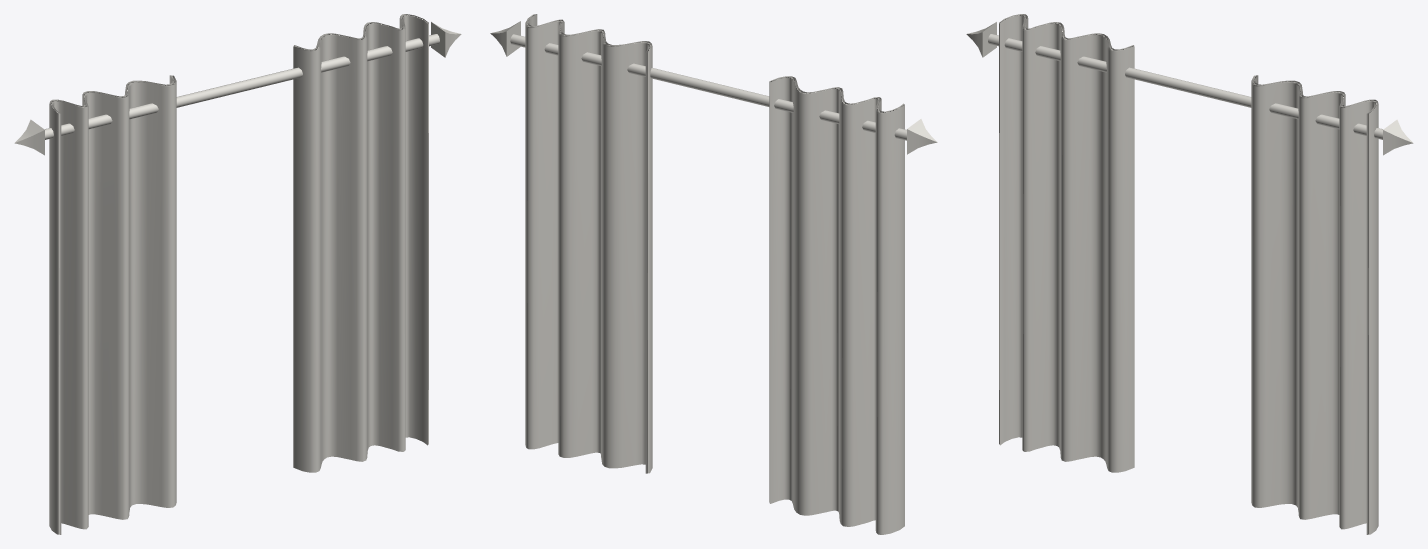
3 views of the same model, side by side, from view 1: azimuth 30°, elevation 25°; view 2: azimuth 150°, elevation 25°; view 3: azimuth 330°, elevation 25° (orthographic).
Visible parts, largest first — view 1: Standard.12, Standard.13; view 2: Standard.12, Standard.13; view 3: Standard.12, Standard.13.
Part boxes in pixels (left/top/right/bottom): Standard.12: left=49, top=14, right=428, bottom=534; Standard.13: left=14, top=22, right=461, bottom=155; Standard.12: left=525, top=14, right=904, bottom=534; Standard.13: left=490, top=21, right=937, bottom=154; Standard.12: left=999, top=14, right=1378, bottom=534; Standard.13: left=966, top=22, right=1413, bottom=155.
Bounding box in the file's own units: 0.0844 × 0.0759 × 0.00573.
Materials: 2 (2 with a texture image).
